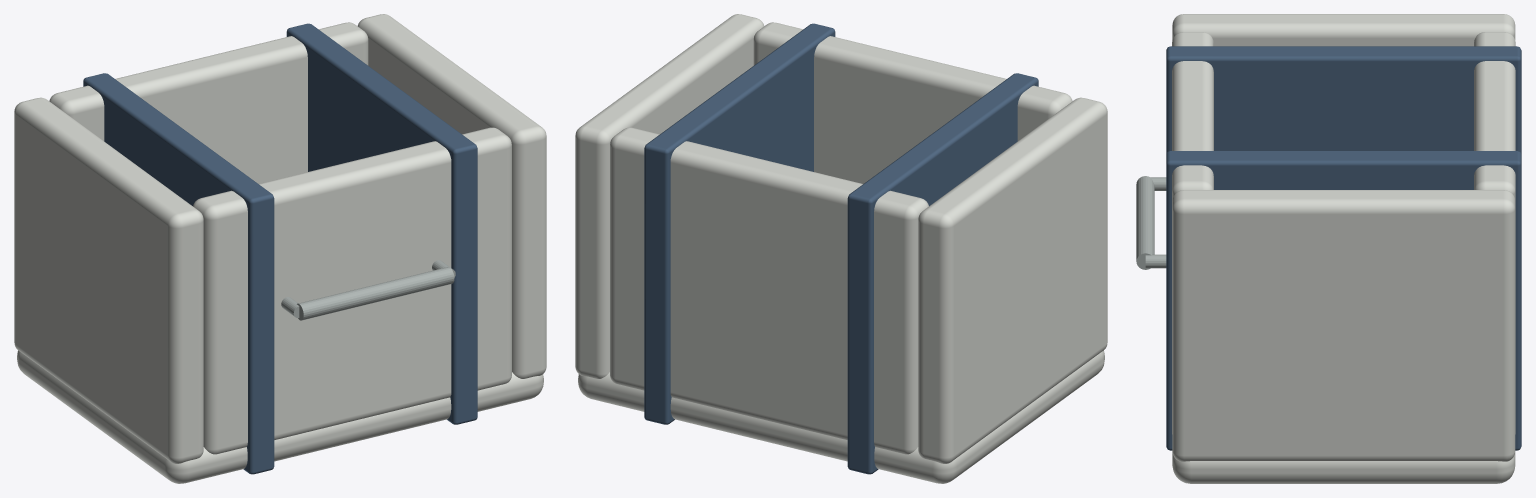
File: spacecraft-parachute-packing-hall-spacecraft-parachute-03c6ee1b__32091.glb
The picture shows the model from 3 angles, left to right: view 1: azimuth 30°, elevation 25°; view 2: azimuth 150°, elevation 25°; view 3: azimuth 270°, elevation 25°; orthographic projection. The views are drawn at different scales.
Parts seen in each view (by area): view 1: spacecraft-parachute-packing-hall-deployment-bag; view 2: spacecraft-parachute-packing-hall-deployment-bag; view 3: spacecraft-parachute-packing-hall-deployment-bag.
Boxes of the visible parts, x1,y1,x2,y2 form: spacecraft-parachute-packing-hall-deployment-bag: (14, 14, 546, 483); spacecraft-parachute-packing-hall-deployment-bag: (575, 14, 1107, 483); spacecraft-parachute-packing-hall-deployment-bag: (1136, 14, 1521, 483).
Size of the model in its own units: 0.601 by 0.42 by 0.505.
